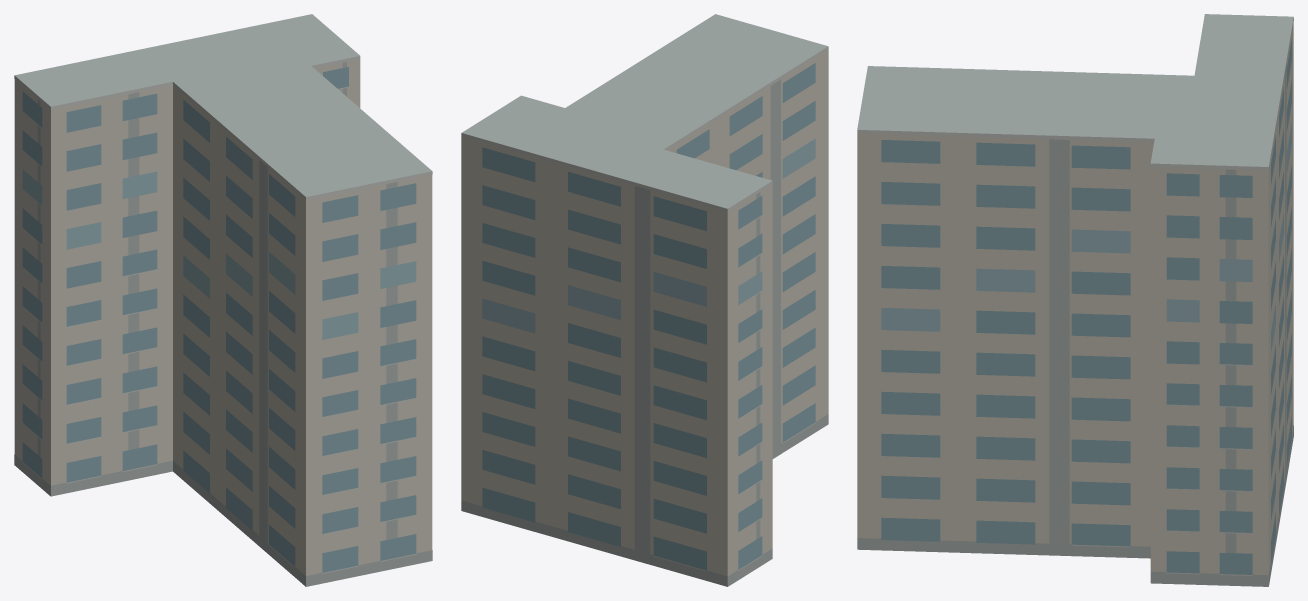
Rendered from residential-cdd24204-190a-459f-8bc8-dedc4375e7fa.glb.
3 views of the same model, side by side, from view 1: azimuth 30°, elevation 25°; view 2: azimuth 150°, elevation 25°; view 3: azimuth 270°, elevation 25° (orthographic). The views are drawn at different scales.
Parts seen in each view (by area): view 1: residential-cdd24204-190a-459f-8bc8-dedc4375e7fa.tmp; view 2: residential-cdd24204-190a-459f-8bc8-dedc4375e7fa.tmp; view 3: residential-cdd24204-190a-459f-8bc8-dedc4375e7fa.tmp.
Boxes of the visible parts, left/top/right/bottom form: residential-cdd24204-190a-459f-8bc8-dedc4375e7fa.tmp: left=14, top=14, right=432, bottom=586; residential-cdd24204-190a-459f-8bc8-dedc4375e7fa.tmp: left=461, top=14, right=828, bottom=586; residential-cdd24204-190a-459f-8bc8-dedc4375e7fa.tmp: left=857, top=14, right=1293, bottom=586.
Bounding box in the file's own units: 21.12 × 27 × 25.46.
